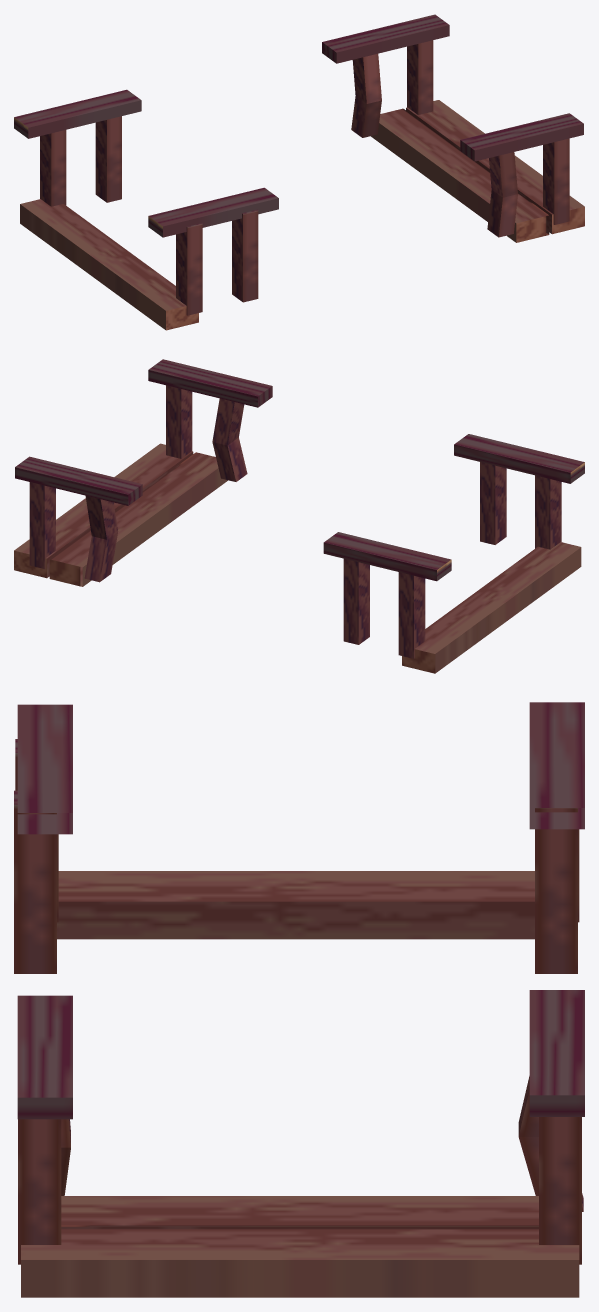
File: PonteQuebrada.fbx
3 renders of one model, top to bottom at view 1: azimuth 30°, elevation 25°; view 2: azimuth 150°, elevation 25°; view 3: azimuth 270°, elevation 25°, orthographic. The views are drawn at different scales.
Visible parts, largest first — view 1: Ponte.001; view 2: Ponte.001; view 3: Ponte.001.
Part boxes in pixels (x1=…): Ponte.001: x1=14, y1=14, x2=584, y2=330; Ponte.001: x1=14, y1=359, x2=584, y2=673; Ponte.001: x1=14, y1=702, x2=584, y2=1297.
Bounding box in the file's own units: 897 × 547 × 214.
